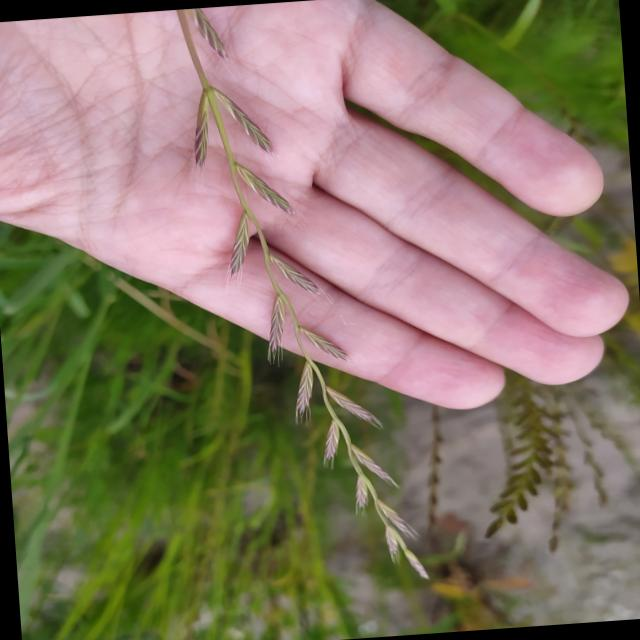Lolium: (169, 0, 433, 596)
